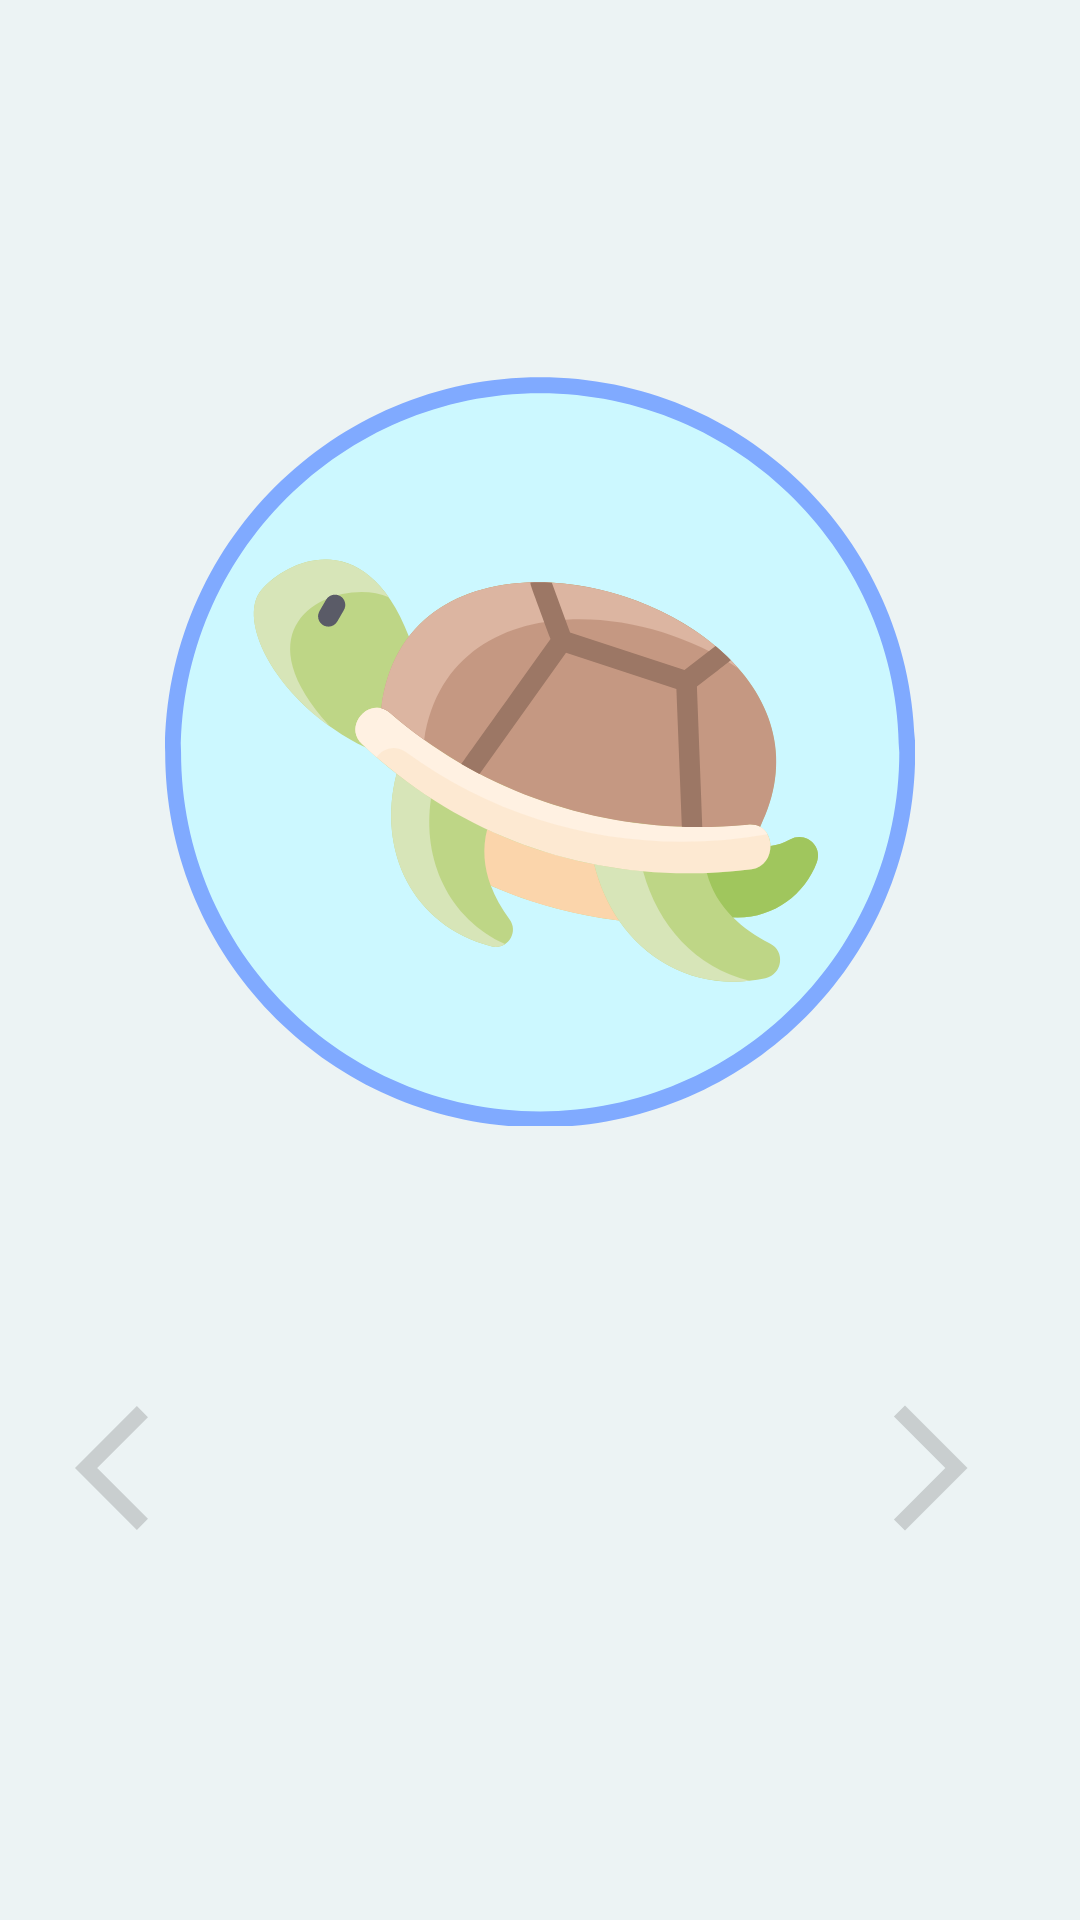

Named icons in this screenshot (1080×1920) and their bounding boxes, bbox(x1, y1, x2, y2):
A back arrow: bbox(76, 1407, 147, 1529)
A forward arrow: bbox(894, 1406, 967, 1530)
